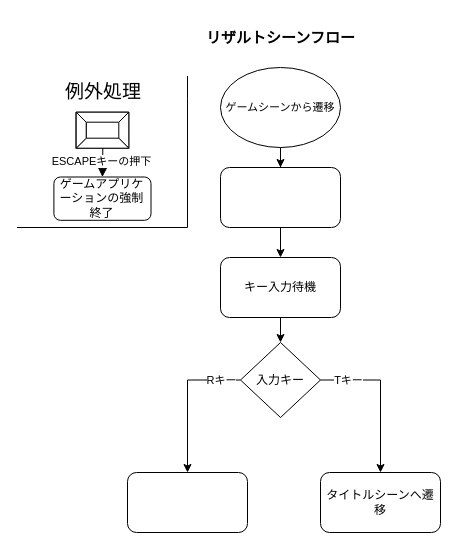
Some shapes in this 458 by 550 pixel diagram are drawn without their labels. The shapes that lost their labels are listed below. From the top down, each one's centre as x and y in pixels, then its label:
(x=102, y=129): ESCAPE
(x=280, y=197): リザルト画面の表示
(x=187, y=502): ゲームシーンへ 遷移
